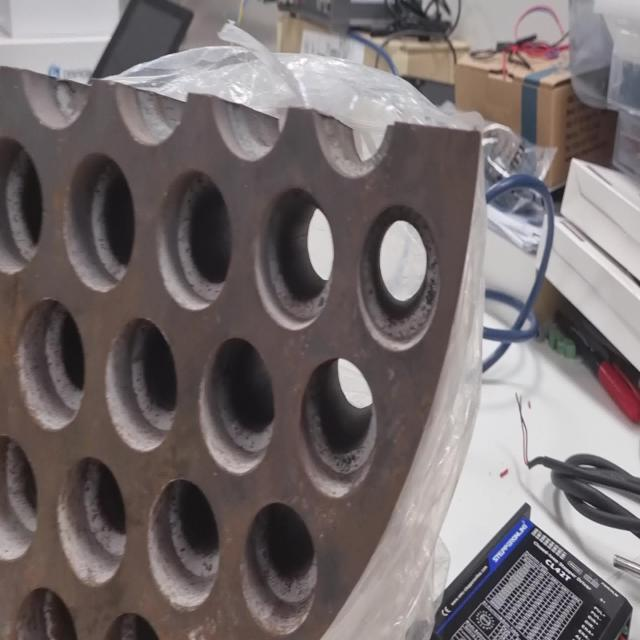Hole: (356, 202, 441, 352), (253, 185, 333, 331), (298, 356, 376, 498), (198, 334, 276, 475), (156, 168, 232, 312), (63, 151, 136, 294), (241, 500, 317, 636), (104, 314, 178, 452), (147, 477, 220, 611), (56, 454, 128, 587), (15, 298, 87, 431), (0, 134, 44, 276), (1, 433, 40, 563)
